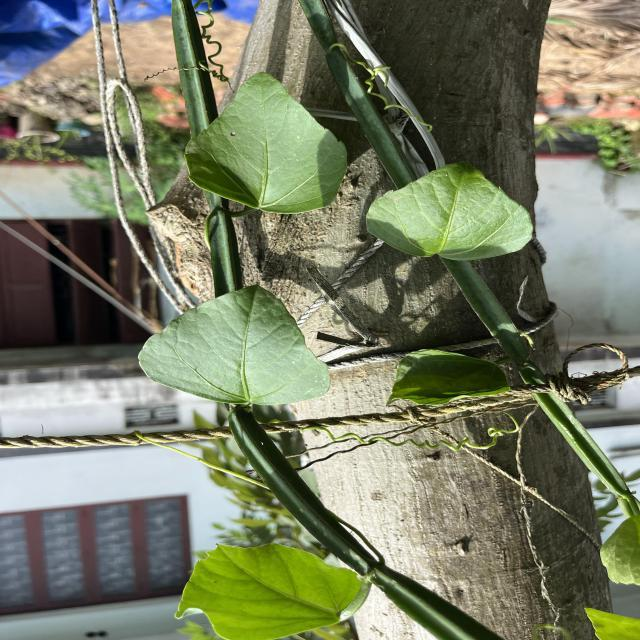Cissus quadrangularis: (183, 69, 351, 216), (136, 283, 334, 407), (362, 158, 536, 264)
